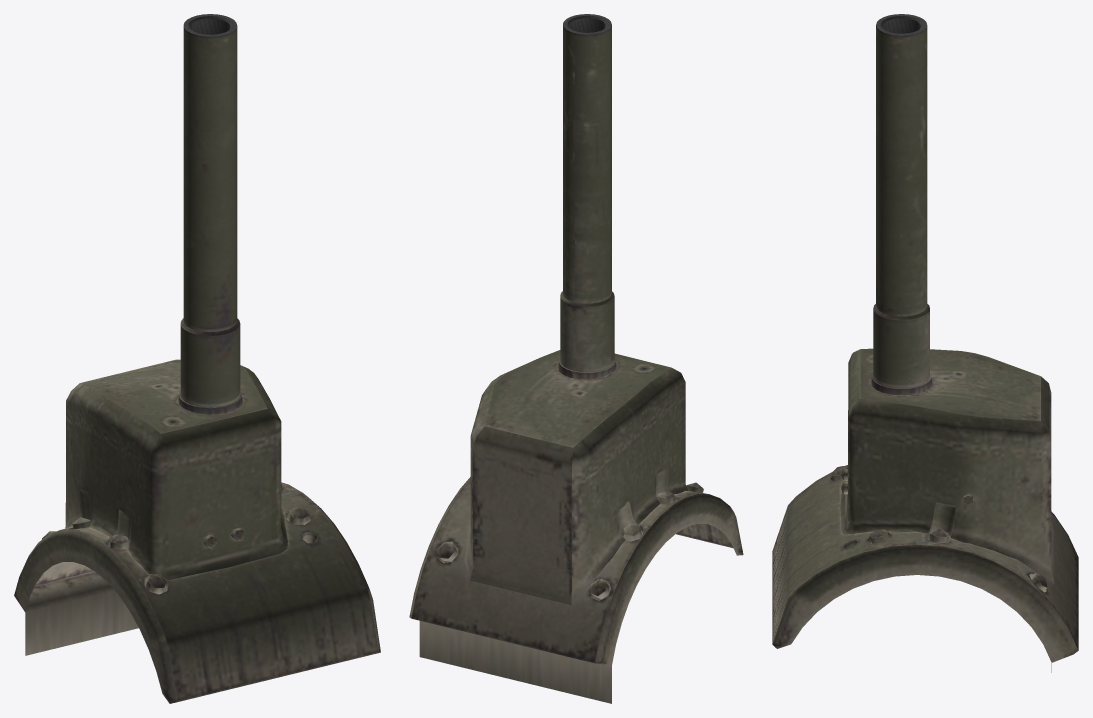
The model's file is Gun_04.glb.
The picture shows the model from 3 angles, left to right: view 1: azimuth 30°, elevation 25°; view 2: azimuth 150°, elevation 25°; view 3: azimuth 270°, elevation 25°; orthographic projection. The views are drawn at different scales.
Parts seen in each view (by area): view 1: set_0_group_0; view 2: set_0_group_0; view 3: set_0_group_0.
Part boxes in pixels (box(x1,y1,x2,y2)): set_0_group_0: box(14, 14, 380, 703); set_0_group_0: box(409, 14, 743, 703); set_0_group_0: box(772, 14, 1078, 672).
Size of the model in its own units: 0.7358 by 2.21 by 0.9711.
1 material, 1 textured.
